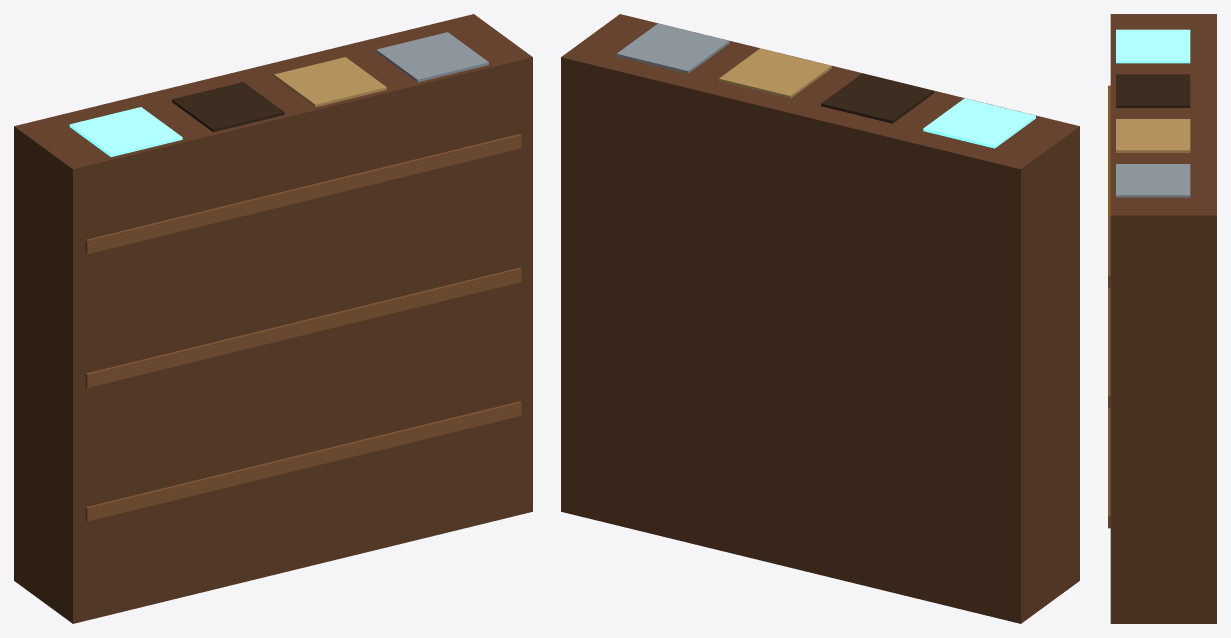
The model's file is f_shelf.glb.
3 renders of one model, left to right at view 1: azimuth 30°, elevation 25°; view 2: azimuth 150°, elevation 25°; view 3: azimuth 270°, elevation 25°, orthographic. The views are drawn at different scales.
Parts seen in each view (by area): view 1: shelf; view 2: shelf; view 3: shelf.
Part boxes in pixels (x1,y1,x2,y2): shelf: (14,14,532,623); shelf: (561,14,1079,623); shelf: (1108,14,1216,623).
Size of the model in its own units: 1.8 by 1.71 by 0.41.
